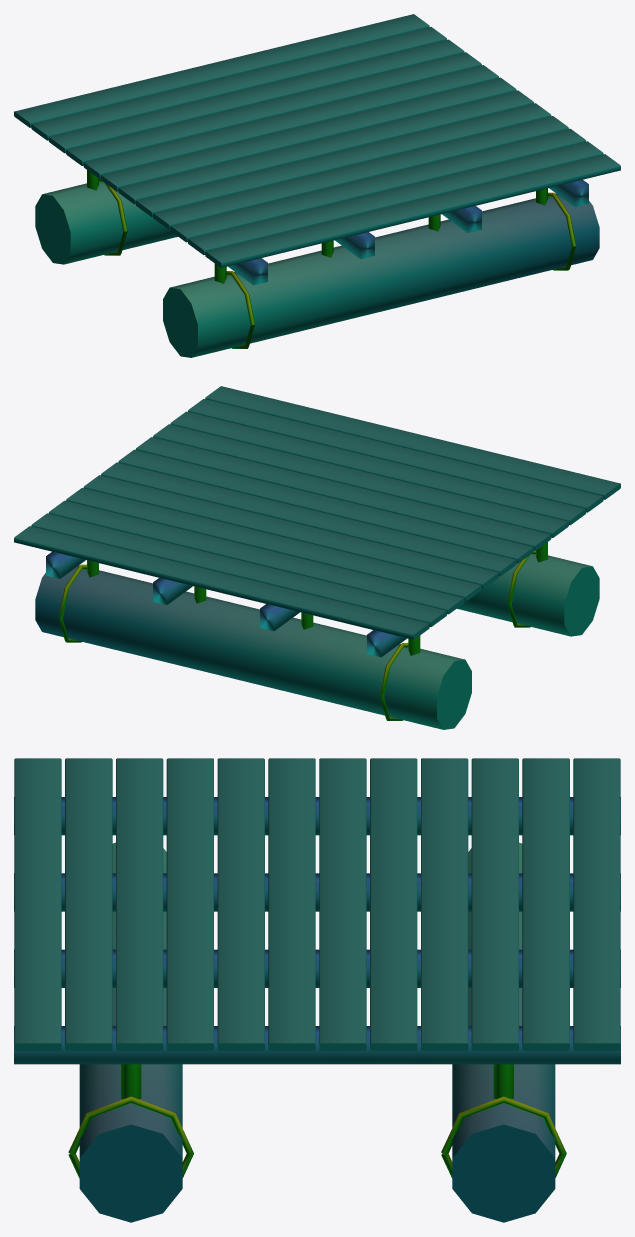
The model's file is hm_dock_4m_open_ns.glb.
3 renders of one model, top to bottom at view 1: azimuth 30°, elevation 25°; view 2: azimuth 150°, elevation 25°; view 3: azimuth 270°, elevation 25°, orthographic. The views are drawn at different scales.
Parts seen in each view (by area): view 1: hm_dock_4m_open_ns; view 2: hm_dock_4m_open_ns; view 3: hm_dock_4m_open_ns.
Part boxes in pixels (box(x1,y1,x2,y2)): hm_dock_4m_open_ns: box(14, 14, 620, 357); hm_dock_4m_open_ns: box(14, 386, 620, 729); hm_dock_4m_open_ns: box(14, 758, 620, 1222).
Size of what is drawn, in the model's own units: 4 by 1.22 by 3.58.
